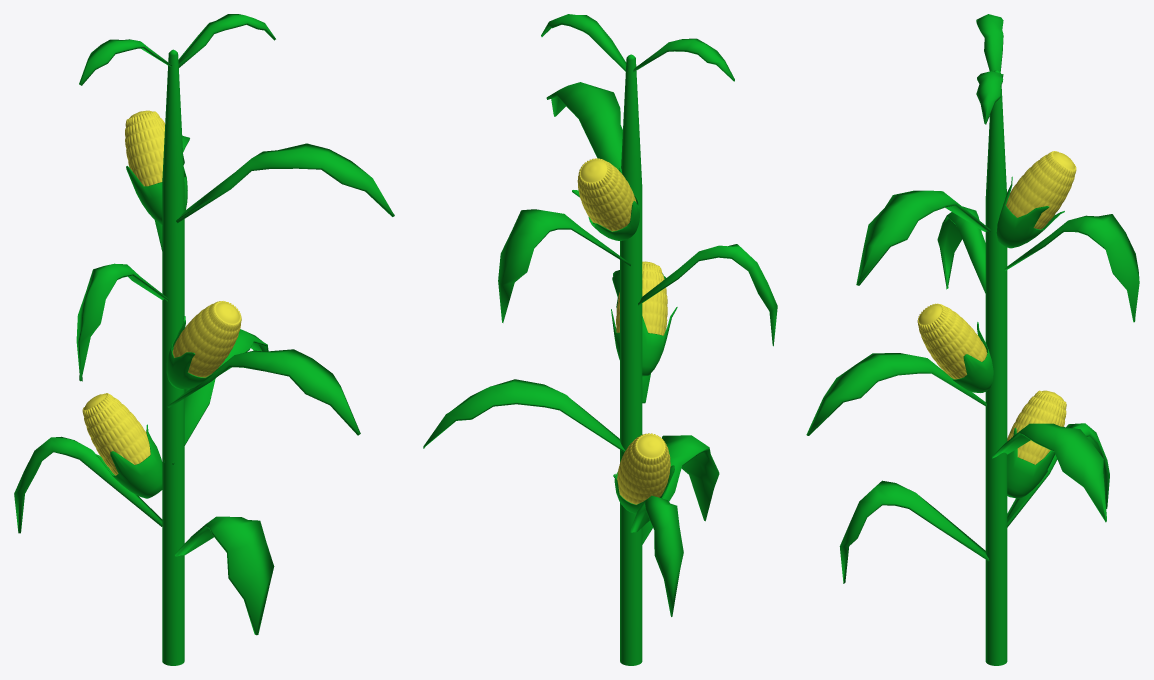
The model's file is CornPlant.fbx.
3 views of the same model, side by side, from view 1: azimuth 30°, elevation 25°; view 2: azimuth 150°, elevation 25°; view 3: azimuth 270°, elevation 25° (orthographic). The views are drawn at different scales.
Parts seen in each view (by area): view 1: Cylinder, Sphere.001, Plane.003, Sphere.002, Plane.005, Plane.007, Sphere, Plane.002, Plane.006, Plane.001, Plane.008, Plane.009; view 2: Cylinder, Plane.001, Sphere, Plane.005, Plane.004, Sphere.001, Plane.002, Plane.003, Sphere.002, Plane.006, Plane.008, Plane.009; view 3: Cylinder, Sphere, Sphere.002, Plane.005, Plane.001, Plane.007, Sphere.001, Plane.004, Plane.003, Plane.006, Plane.002, Plane.009 (+1 smaller).
Boxes of the visible parts, <box> form: Cylinder: <box>162,49,184,665</box>; Sphere.001: <box>82,393,162,498</box>; Plane.003: <box>174,516,274,635</box>; Sphere.002: <box>166,301,241,389</box>; Plane.005: <box>176,143,394,222</box>; Plane.007: <box>167,349,360,435</box>; Sphere: <box>125,110,187,224</box>; Plane.002: <box>14,436,162,533</box>; Plane.006: <box>76,263,168,381</box>; Plane.001: <box>163,329,268,464</box>; Plane.008: <box>178,14,275,67</box>; Plane.009: <box>79,39,172,85</box>; Cylinder: <box>620,54,642,665</box>; Plane.001: <box>423,379,625,452</box>; Sphere: <box>572,158,639,240</box>; Plane.005: <box>546,82,622,169</box>; Plane.004: <box>498,209,631,322</box>; Sphere.001: <box>613,433,674,513</box>; Plane.002: <box>630,495,683,616</box>; Plane.003: <box>642,435,719,544</box>; Sphere.002: <box>611,261,677,376</box>; Plane.006: <box>638,244,777,346</box>; Plane.008: <box>541,14,626,71</box>; Plane.009: <box>633,38,734,81</box>; Cylinder: <box>985,70,1007,665</box>; Sphere: <box>996,151,1076,248</box>; Sphere.002: <box>917,303,993,392</box>; Plane.005: <box>856,190,990,285</box>; Plane.001: <box>992,423,1106,522</box>; Plane.007: <box>806,353,986,435</box>; Sphere.001: <box>1007,390,1066,498</box>; Plane.004: <box>1004,214,1139,322</box>; Plane.003: <box>839,480,989,583</box>; Plane.006: <box>937,206,985,293</box>; Plane.002: <box>1007,423,1109,527</box>; Plane.009: <box>976,14,1003,72</box>.
Size of the model in its own units: 578 by 1286 by 630.
